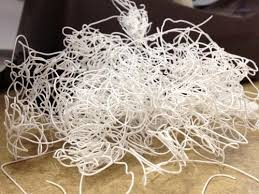fail: (1, 3, 259, 194)
